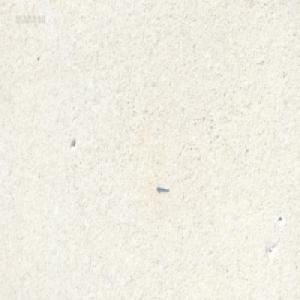Nail: (155, 182, 169, 191)
